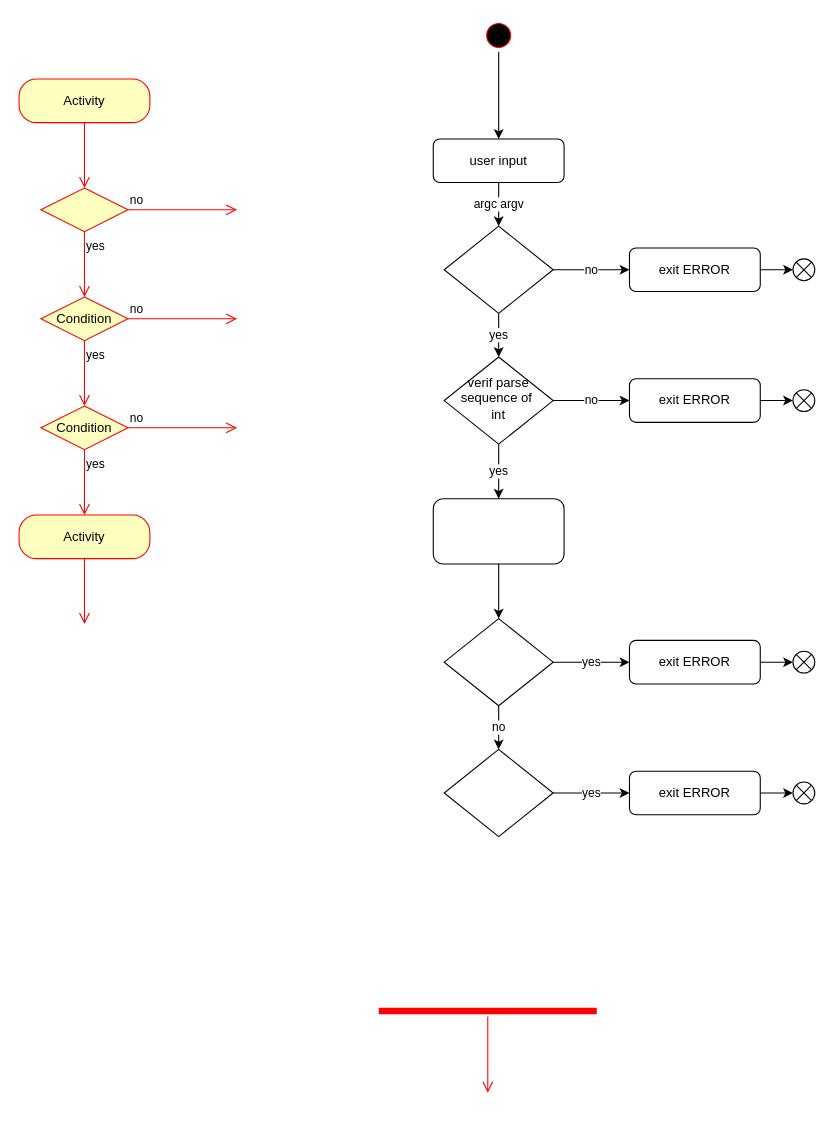
This 834x1123 diagram has some shape labels left out. Here are the shapes that lost their labels. From the top down, the centre of each, then its label:
At (84,209): "argc".
At (498,269): "argc > 0".
At (498,531): "create stack 'a' inisialized with user 's entries".
At (498,661): "problem of memallocation".
At (498,792): "int in double".
